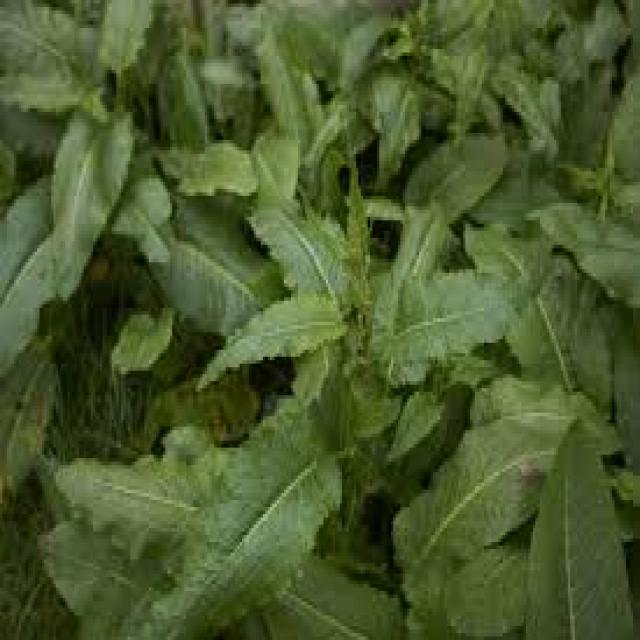organic waste: (0, 0, 640, 640), (144, 185, 640, 640), (0, 0, 337, 416), (475, 0, 640, 416), (323, 0, 539, 220)
